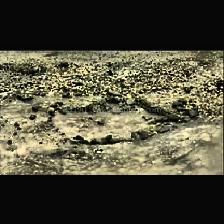pothole: (49, 95, 181, 145)
